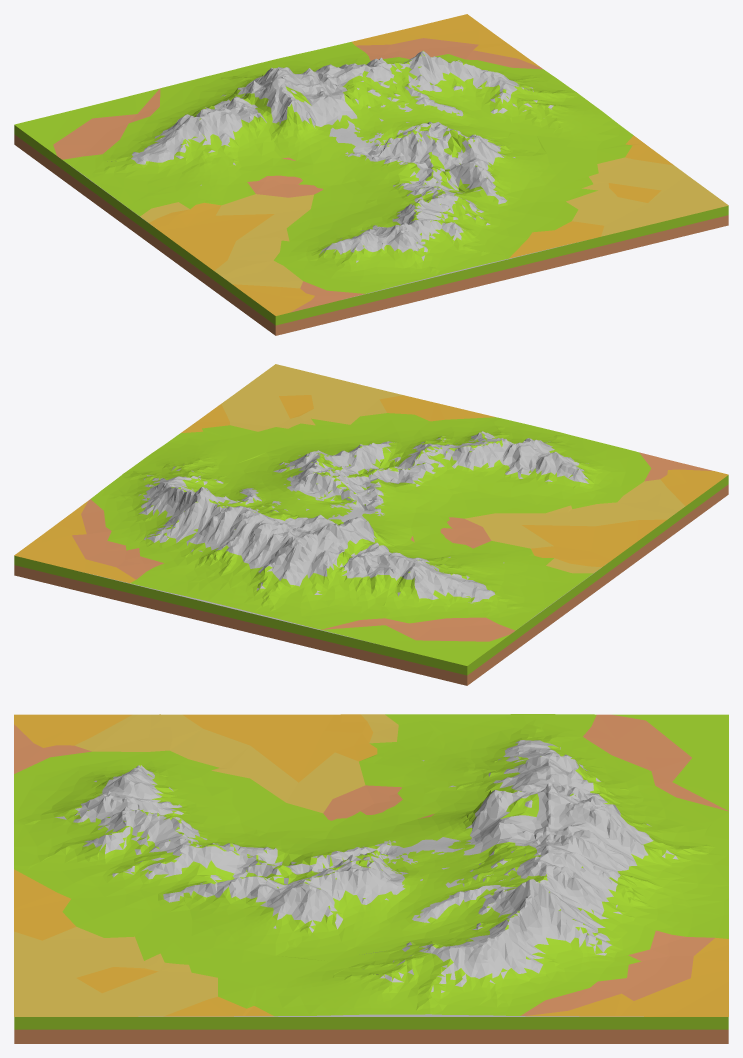
Rendered from map3.fbx.
3 renders of one model, top to bottom at view 1: azimuth 30°, elevation 25°; view 2: azimuth 150°, elevation 25°; view 3: azimuth 270°, elevation 25°, orthographic. The views are drawn at different scales.
Visible parts, largest first — view 1: Cube; view 2: Cube; view 3: Cube.
Part boxes in pixels (x1,y1,x2,y2): Cube: [14, 14, 728, 335]; Cube: [14, 364, 728, 685]; Cube: [14, 714, 728, 1043].
Bounding box in the file's own units: 674 × 94.16 × 674.
